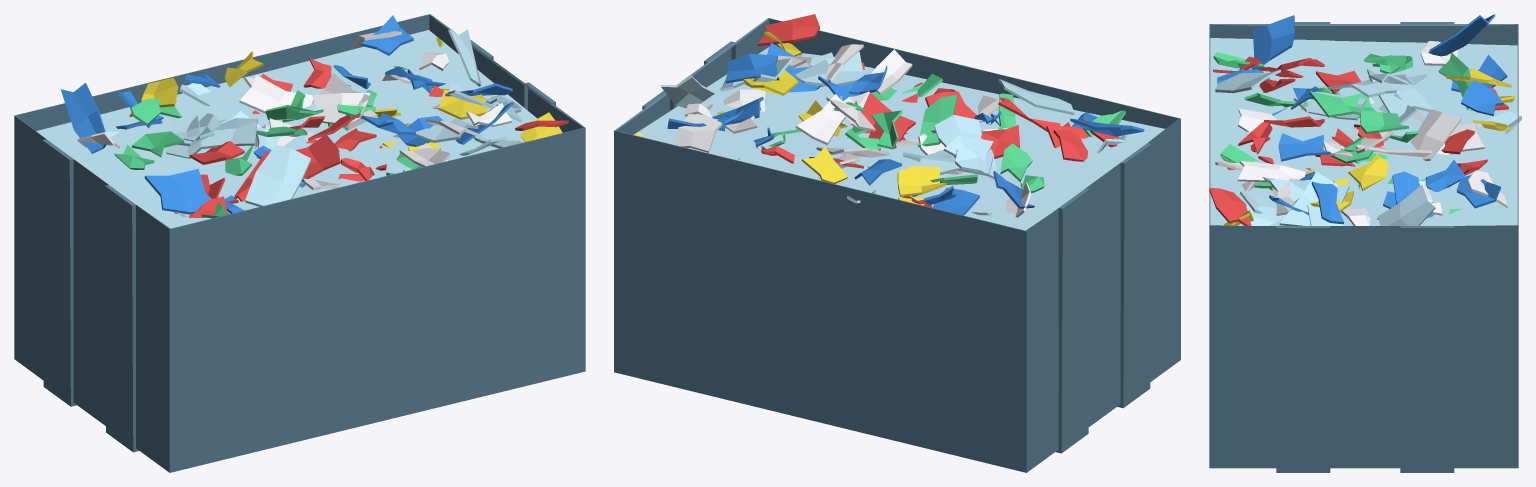
File: Caja con trozitos de plastico(sale de la 1ra maquina de plastico).fbx
The picture shows the model from 3 angles, left to right: view 1: azimuth 30°, elevation 25°; view 2: azimuth 150°, elevation 25°; view 3: azimuth 270°, elevation 25°; orthographic projection.
Parts seen in each view (by area): view 1: Contenedor industrial de plastico.002; view 2: Contenedor industrial de plastico.002; view 3: Contenedor industrial de plastico.002.
Boxes of the visible parts, <box> form: Contenedor industrial de plastico.002: <box>14,14,585,472</box>; Contenedor industrial de plastico.002: <box>614,14,1180,472</box>; Contenedor industrial de plastico.002: <box>1209,14,1521,472</box>.
Size of the model in its own units: 99.59 by 63.15 by 63.95.
